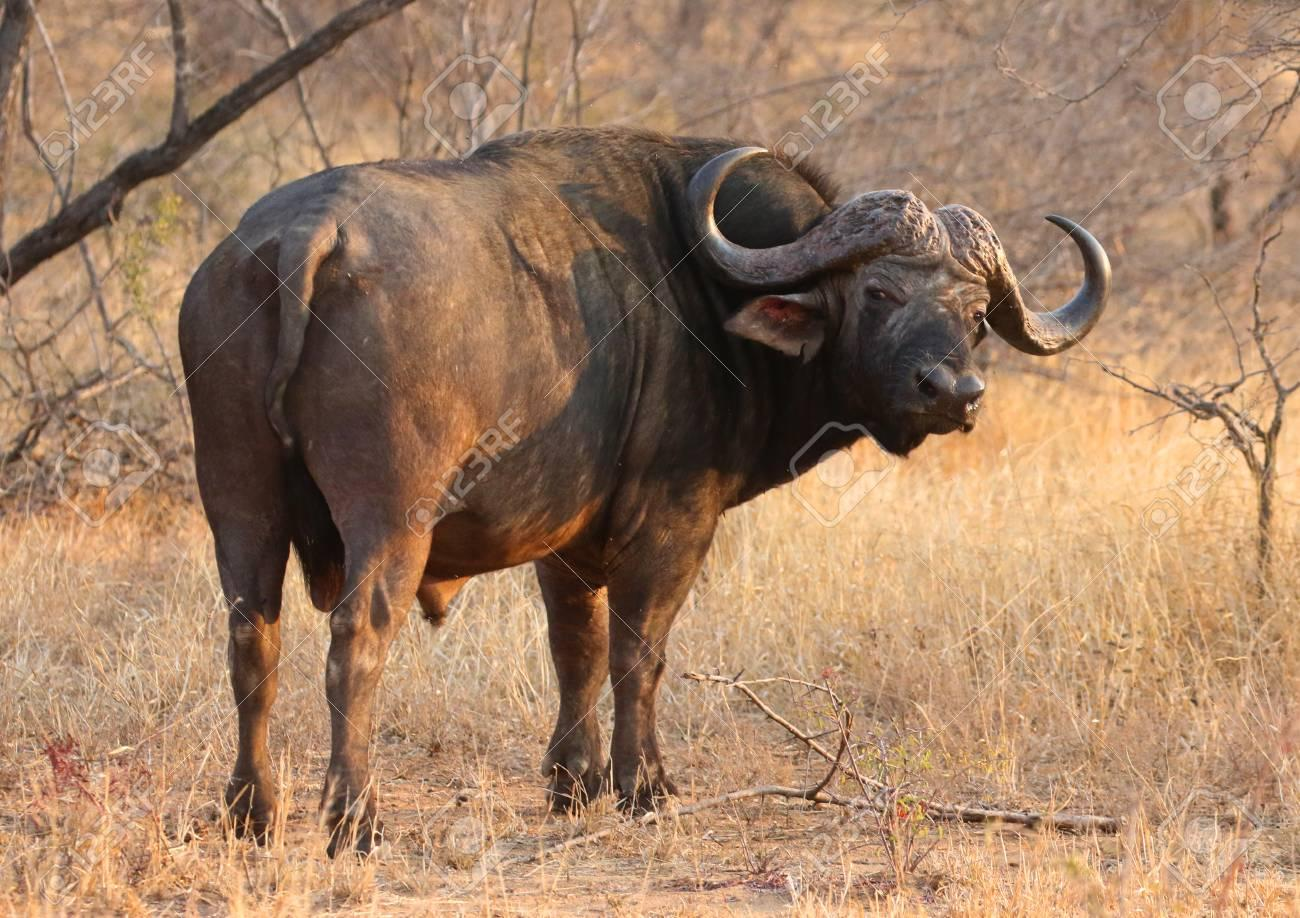Buffalo: (182, 96, 1252, 868)
